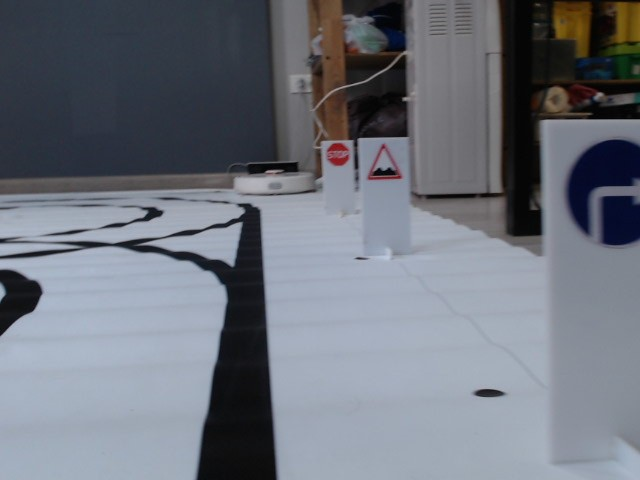Nerov: (367, 144, 401, 182)
Right: (564, 137, 640, 248)
Stop: (325, 142, 350, 167)
